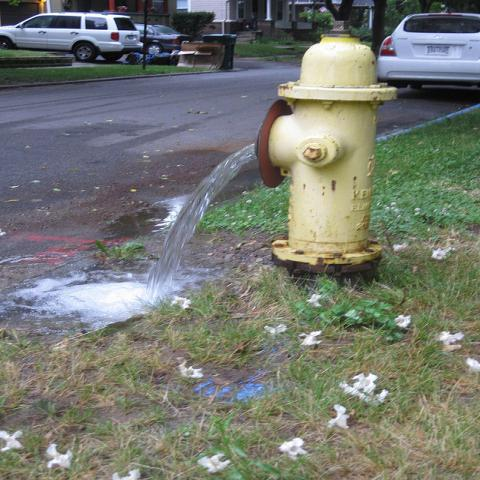car: (375, 12, 479, 91), (0, 11, 144, 63), (146, 24, 192, 55)
truck: (0, 12, 144, 62)
